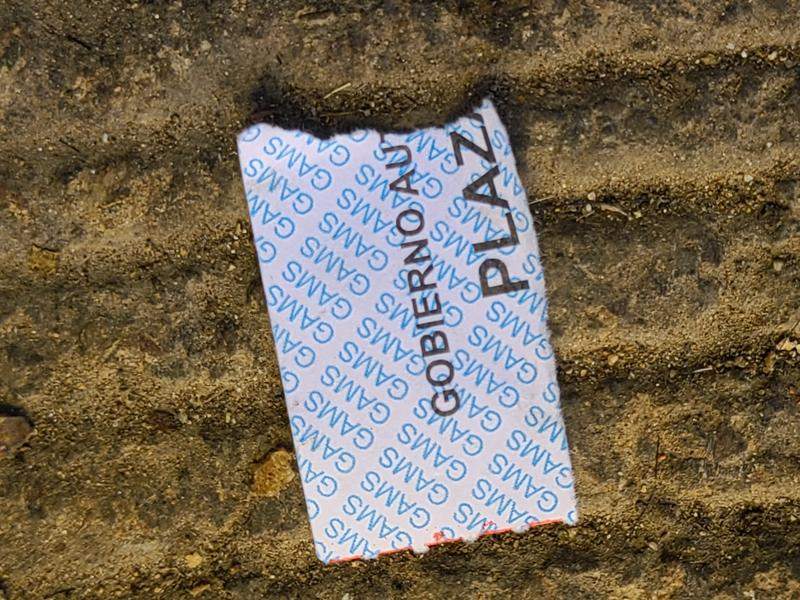papel: (237, 98, 579, 566)
